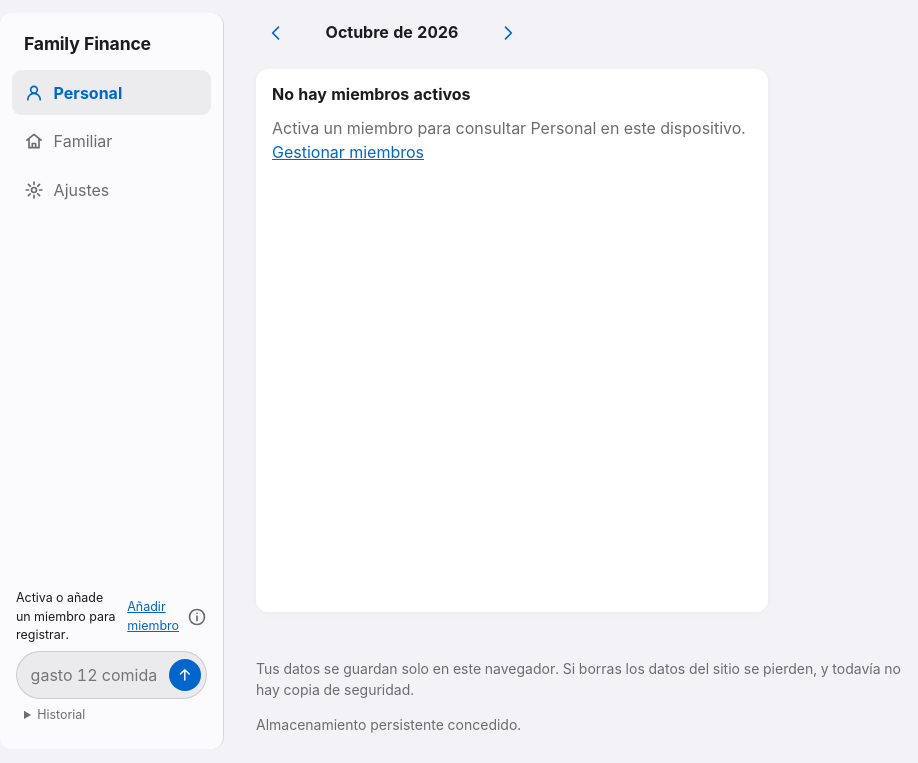
Test: assistant capture bar shell › G1: does not write when there are no active members and the saved me is inactive
The image size is (918, 763).
In the field named "Escribe un movimiento": (96, 675) [31,656,161,694], type "gasto 126 comida"
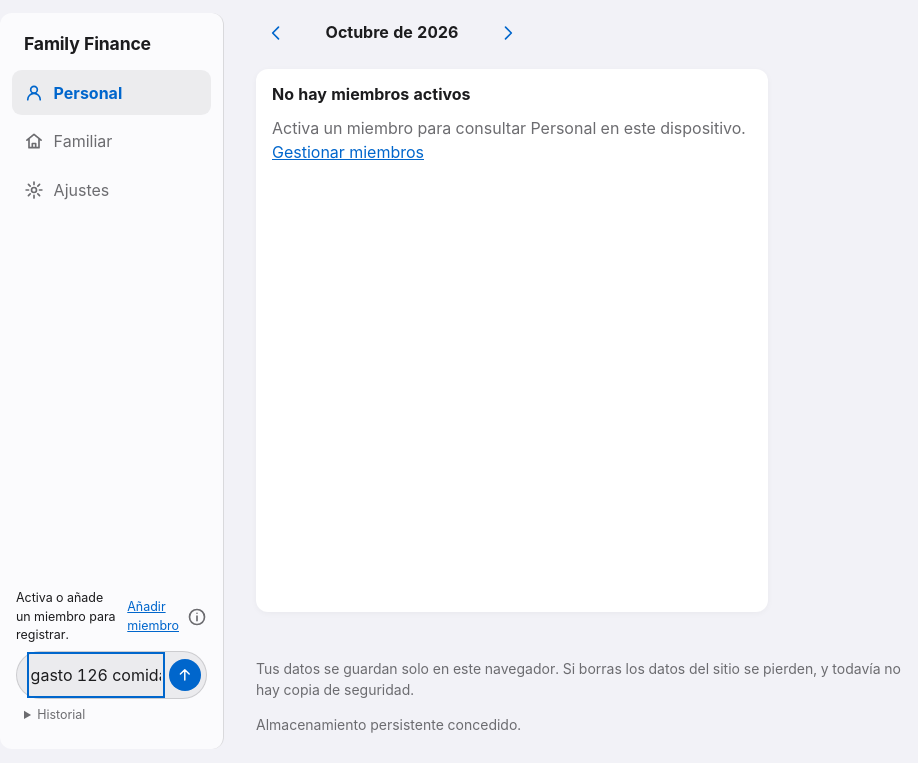
Click the button named "Registrar": click(185, 675) [169,659,201,691]
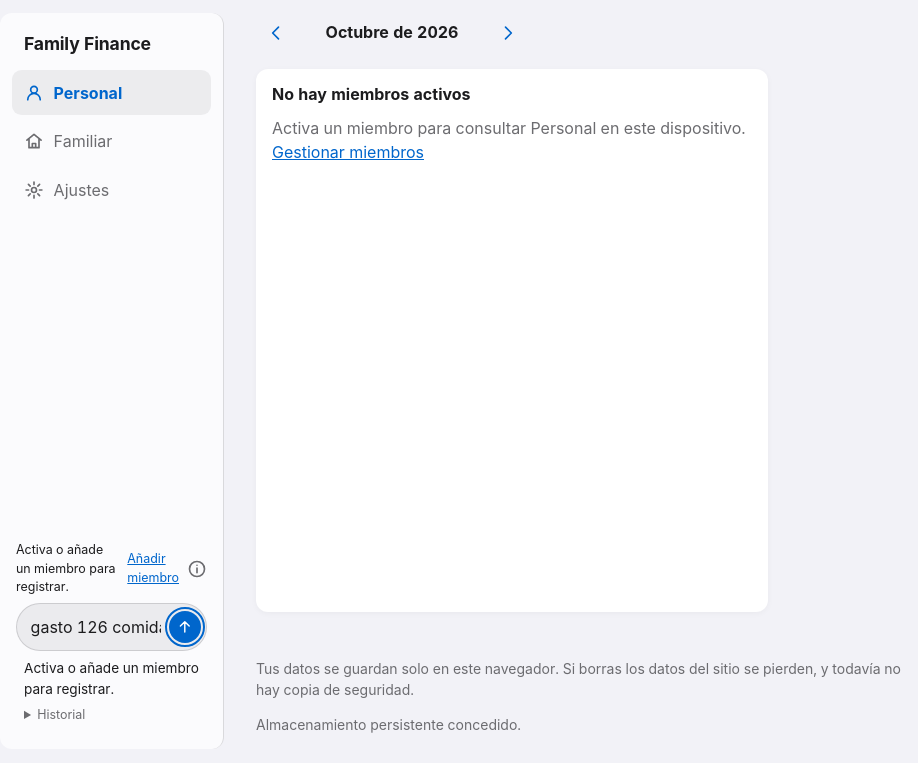
Check: the message reads "Activa o añade un miembro para registrar.", box [24,660,199,697]
